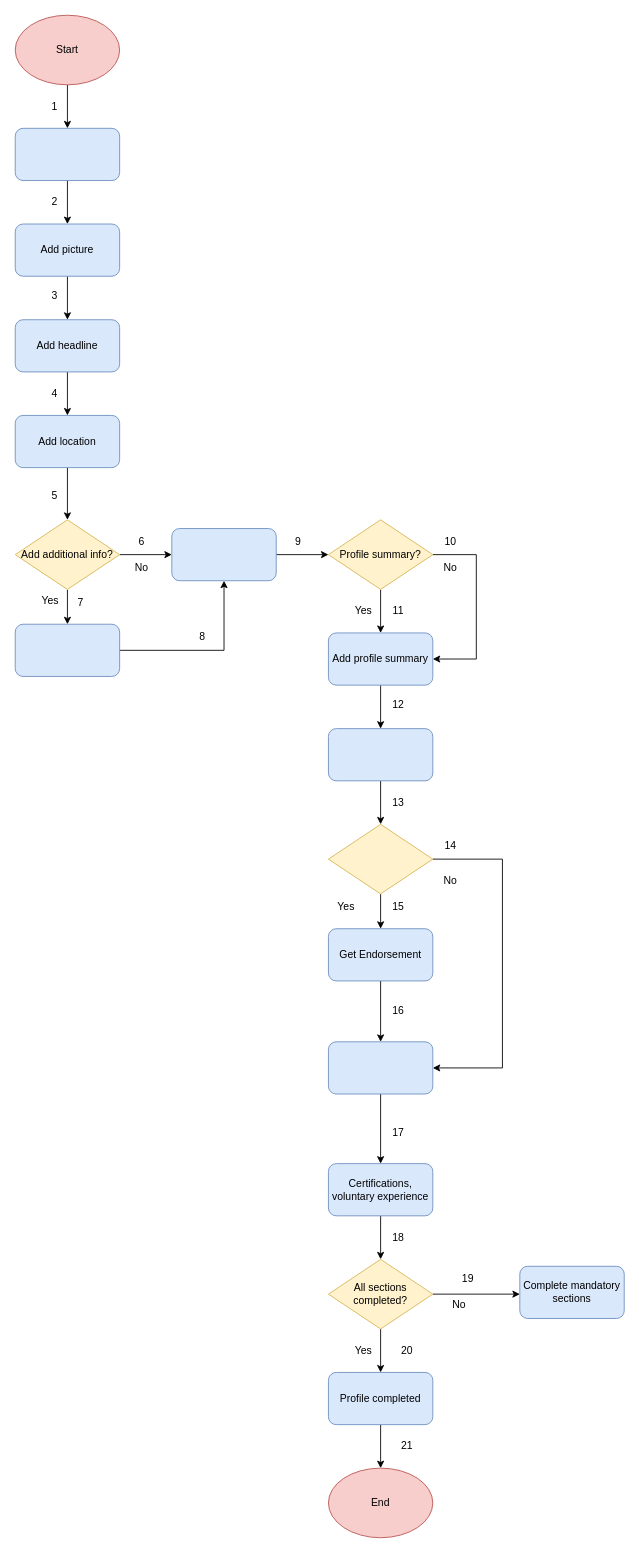
Image size: 639x1553. Some labels were removed from this diagram. The centre of each missing label's shape, as x and y in pixels:
"Add name" belongs at [67,154].
"Endorsement?" belongs at [380,858].
"Experience and education" belongs at [223,554].
"Provide email or phone number" belongs at [67,649].
"Recommendations" belongs at [380,1067].
"Skills and endorsementts" belongs at [380,754].
